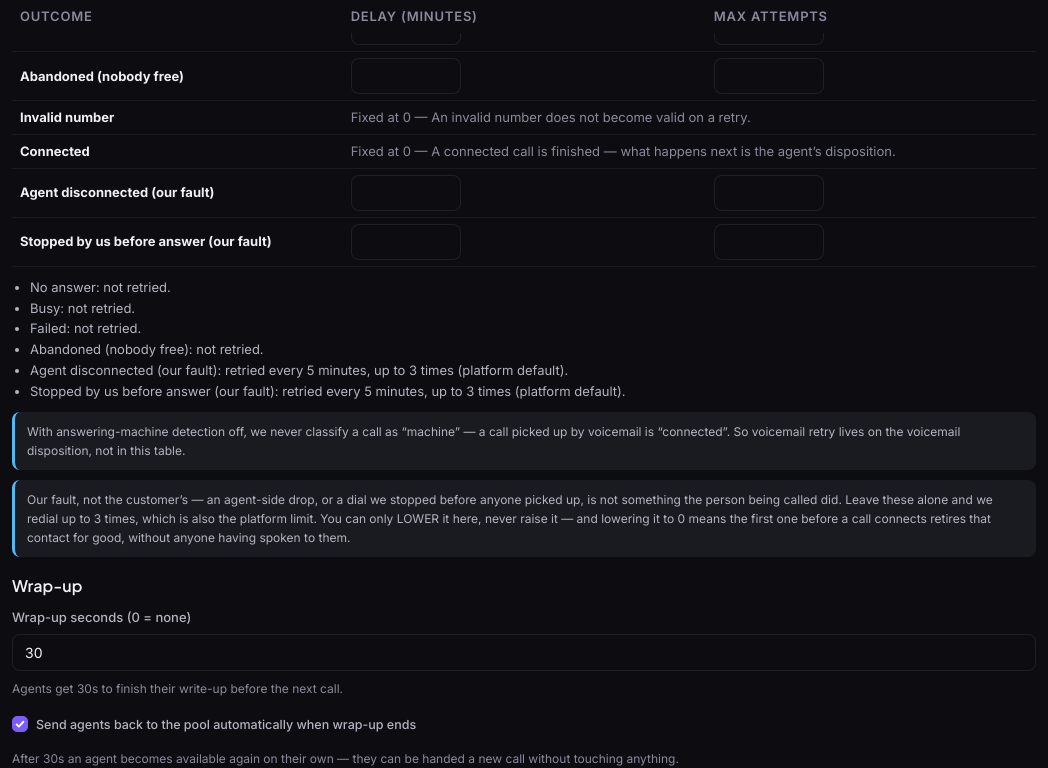
wrap-up › says what the window and the auto-return switch do together
(page scrolled)
Expected: the text with test id "auto-return-hint" shows "After 30s an agent becomes available again", [12,751,679,766]
Click the checkbox labelled "Send agents back to the pool automatically when wrap-up ends": (20, 724) [12,716,28,732]
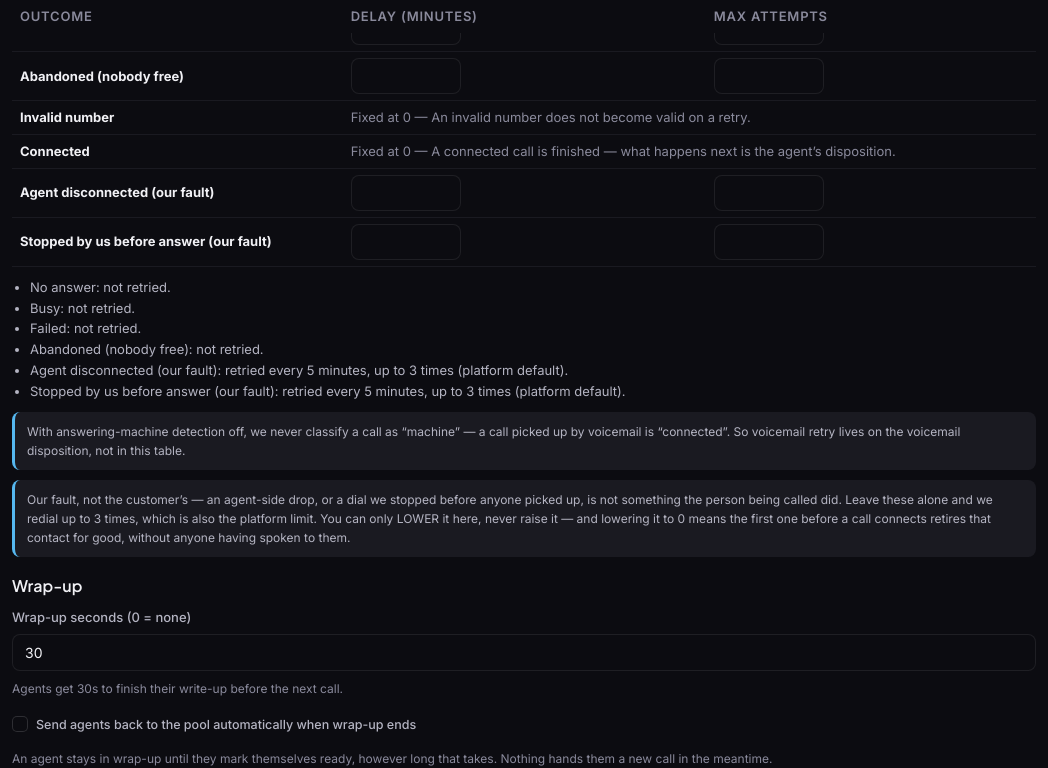
Expected: the text with test id "auto-return-hint" shows "stays in wrap-up until they mark themselves ready", [12,751,772,766]
Replace the text in the number field labelled "Wrap-up seconds (0 = none)" with "0": (524, 652) [12,634,1036,671]
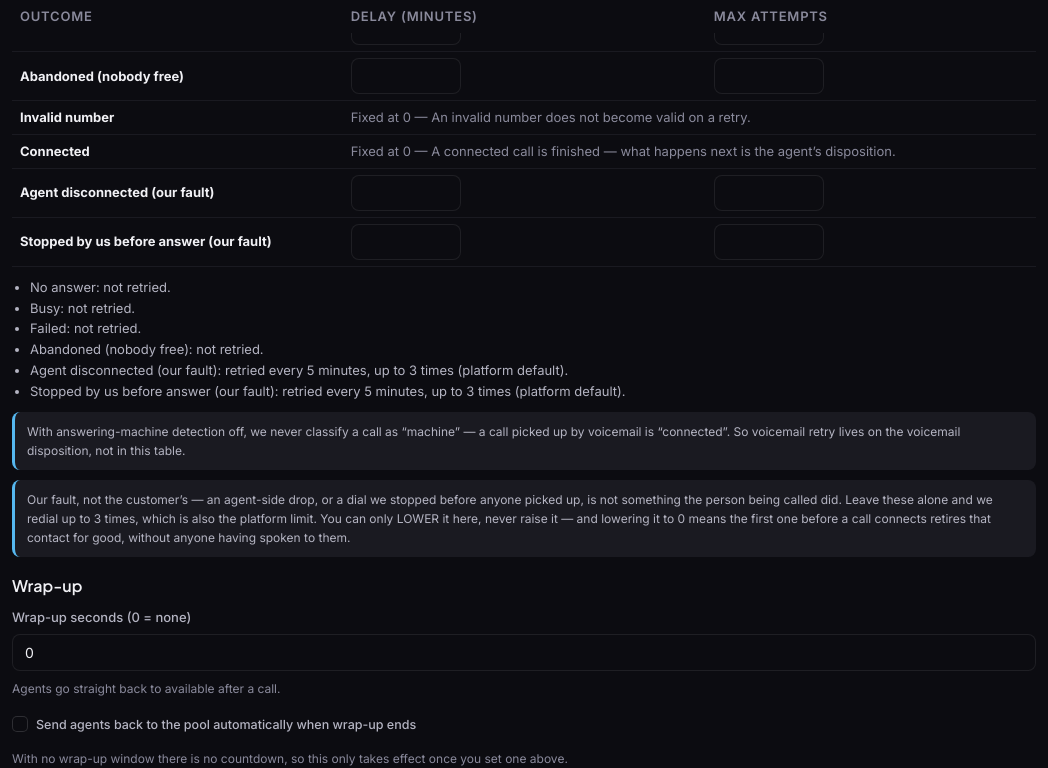
Expected: the text with test id "auto-return-hint" shows "With no wrap-up window there is no countdown", [12,751,568,766]
